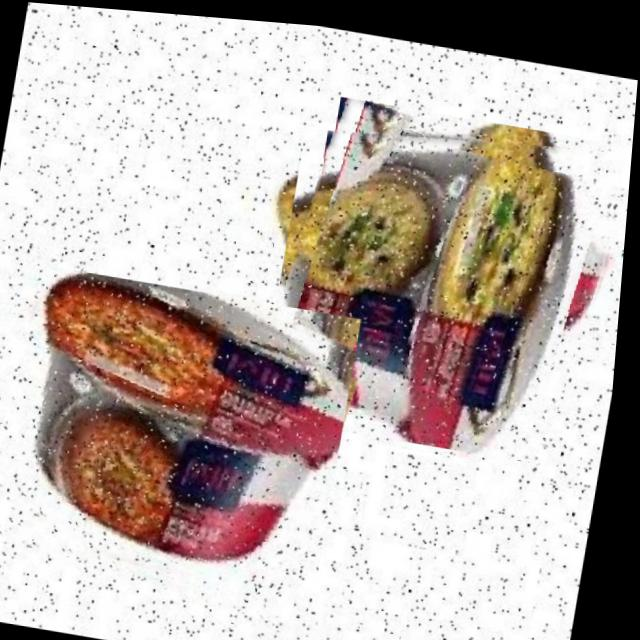Miscellaneous: (261, 90, 631, 460), (0, 255, 367, 613)
